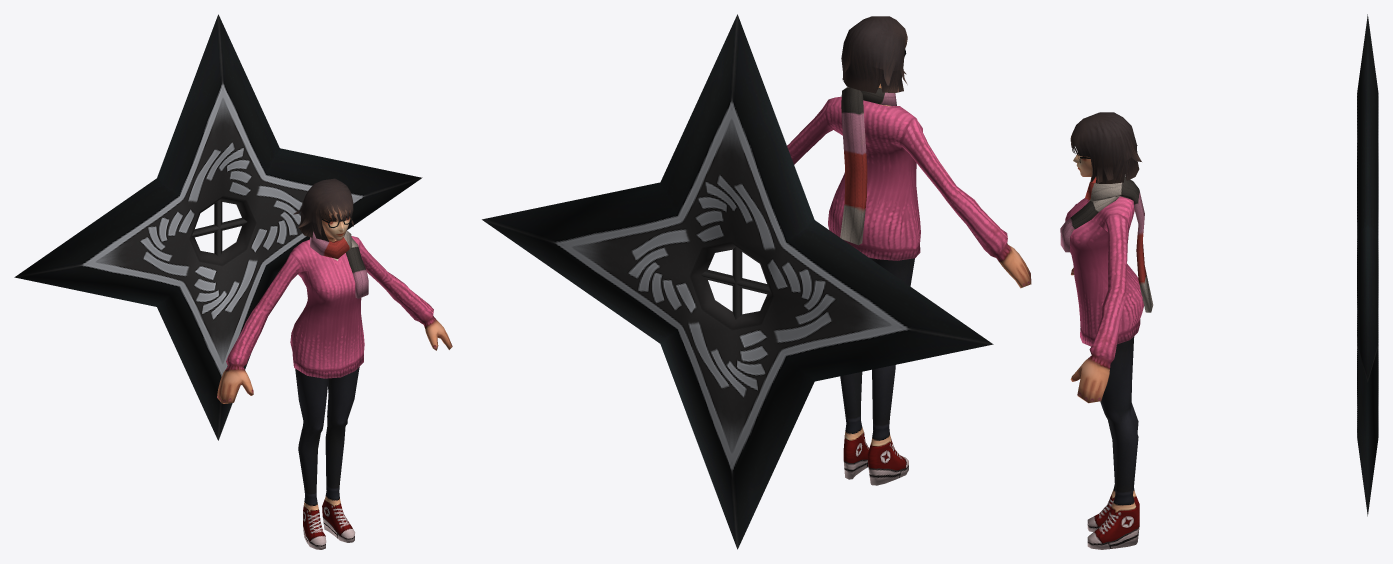
The picture shows the model from 3 angles, left to right: view 1: azimuth 30°, elevation 25°; view 2: azimuth 150°, elevation 25°; view 3: azimuth 270°, elevation 25°; orthographic projection. The views are drawn at different scales.
Parts seen in each view (by area): view 1: Object023; view 2: Object023; view 3: Object023.
Boxes of the visible parts, x1,y1,x2,y2 form: Object023: (14, 14, 452, 549); Object023: (482, 14, 1031, 549); Object023: (1060, 14, 1378, 549).
Size of the model in its own units: 2.08 by 2.17 by 1.19.
1 material, 1 textured.
